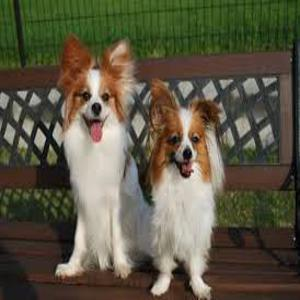yell: (54, 32, 150, 276)
